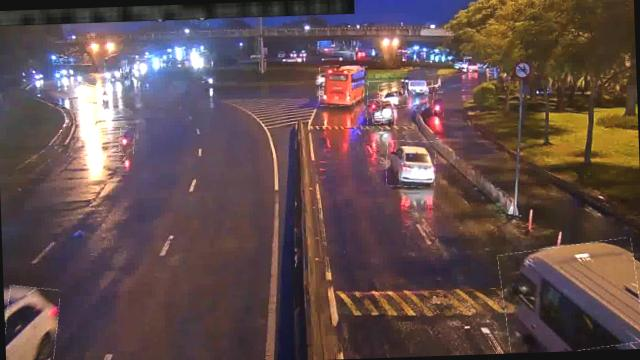Bike: (118, 126, 134, 155), (432, 93, 444, 117)
Bus: (499, 240, 640, 353), (318, 65, 368, 107)
Car: (3, 285, 60, 360), (386, 140, 437, 188), (378, 82, 408, 109), (366, 98, 394, 124)
